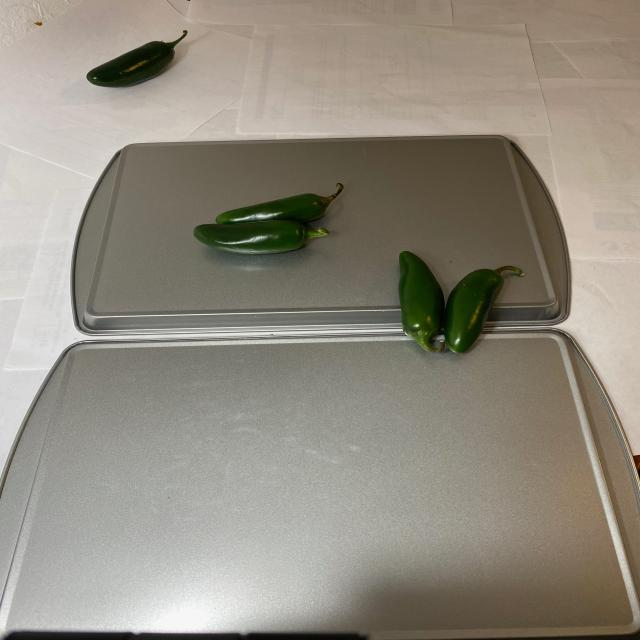chilli: (390, 248, 526, 364), (190, 181, 350, 256), (76, 26, 200, 100)
